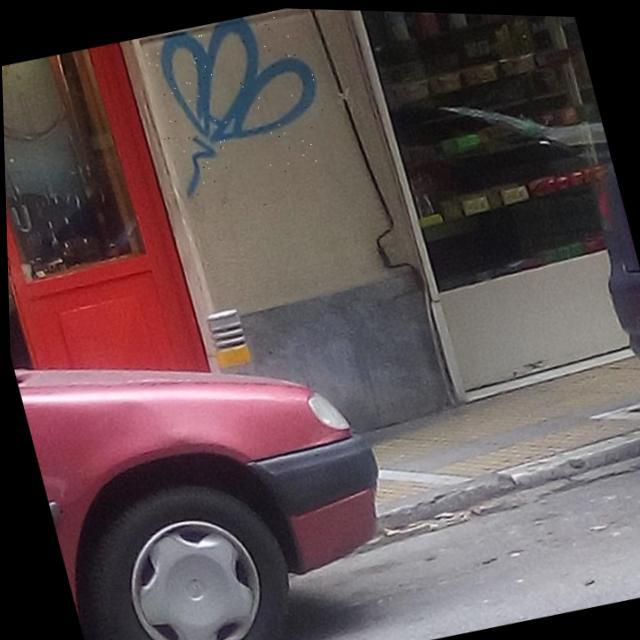-: (137, 3, 339, 200)
